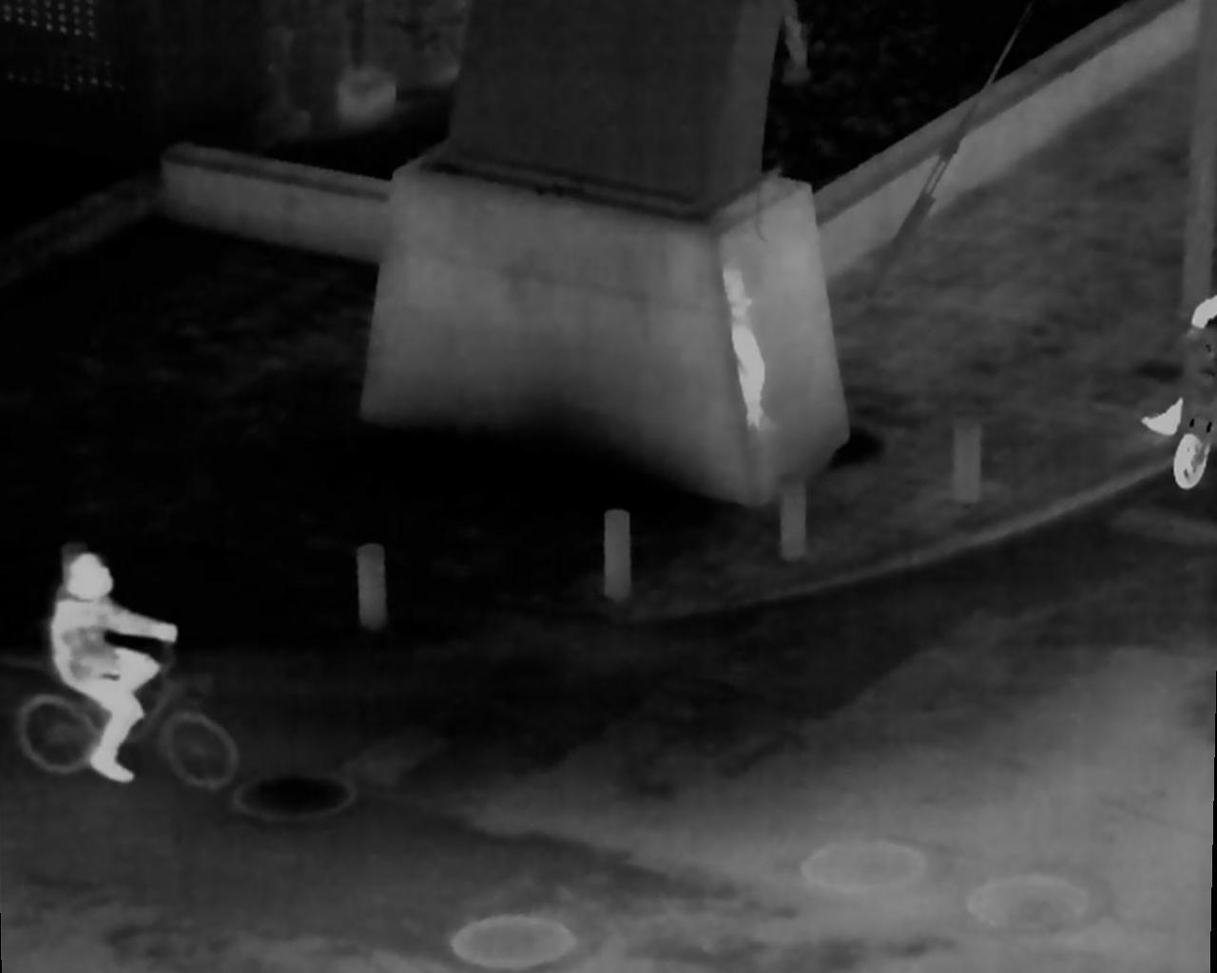person: (55, 555, 181, 791)
